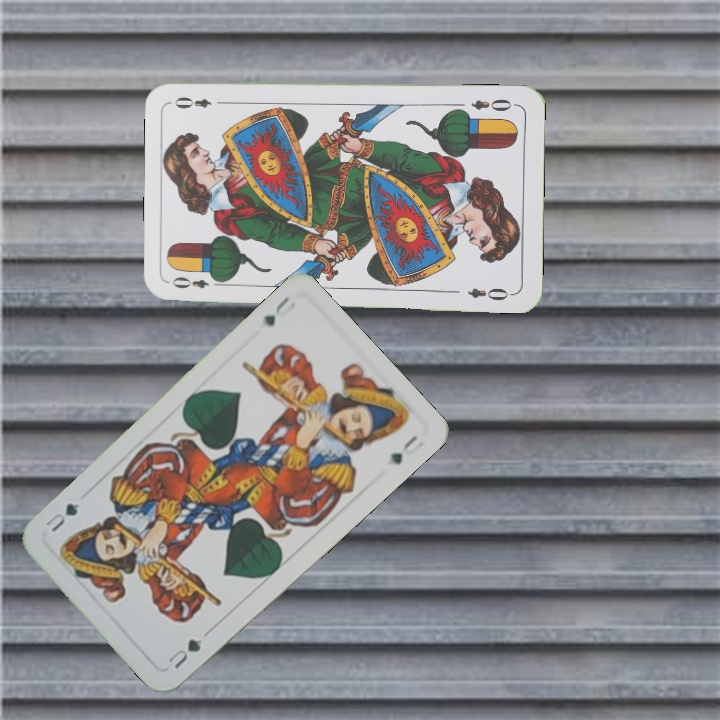EO: (168, 273, 226, 291), (467, 94, 514, 114)
GU: (162, 634, 205, 672), (259, 292, 299, 329)
